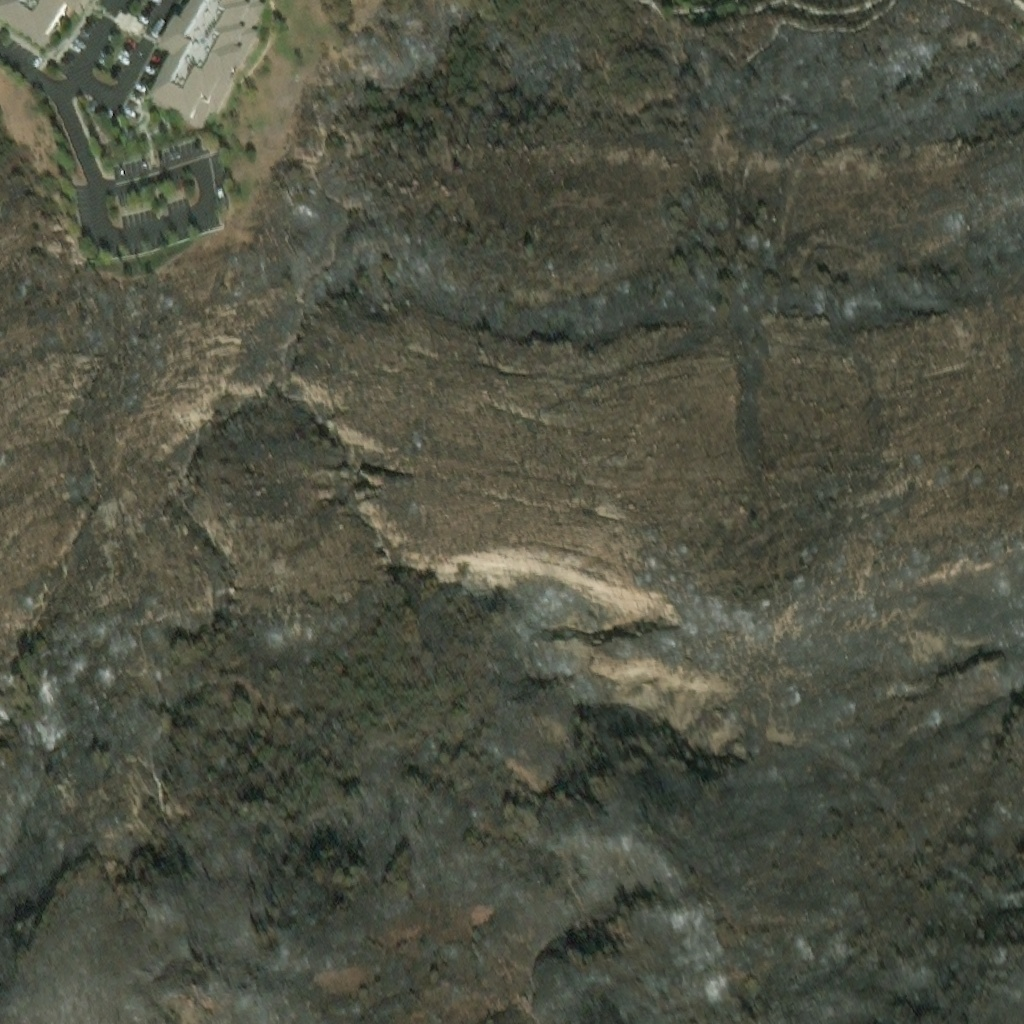0 no-damage: (146, 0, 268, 128), (0, 0, 82, 42)
